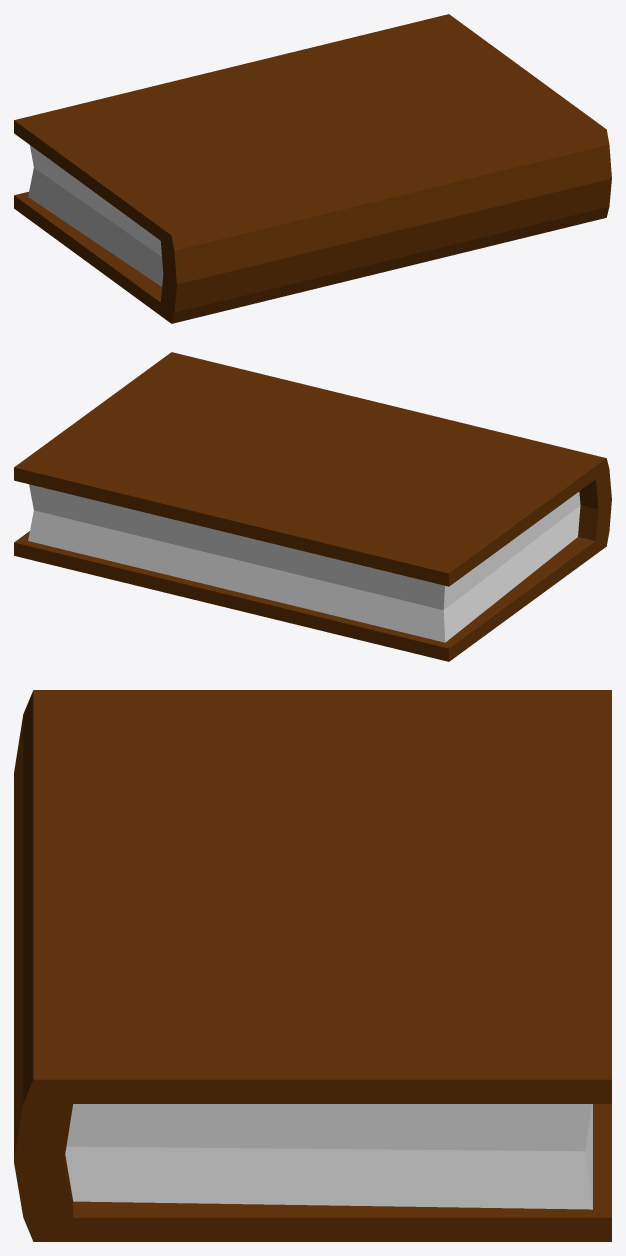
File: book_a.fbx
The picture shows the model from 3 angles, top to bottom: view 1: azimuth 30°, elevation 25°; view 2: azimuth 150°, elevation 25°; view 3: azimuth 270°, elevation 25°; orthographic projection. The views are drawn at different scales.
Parts seen in each view (by area): view 1: Book_A; view 2: Book_A; view 3: Book_A.
Boxes of the visible parts, bbox=[...] form: Book_A: bbox=[14, 14, 611, 323]; Book_A: bbox=[14, 352, 611, 661]; Book_A: bbox=[14, 690, 611, 1241].
Bounding box in the file's own units: 0.4298 × 0.0834 × 0.2788.
